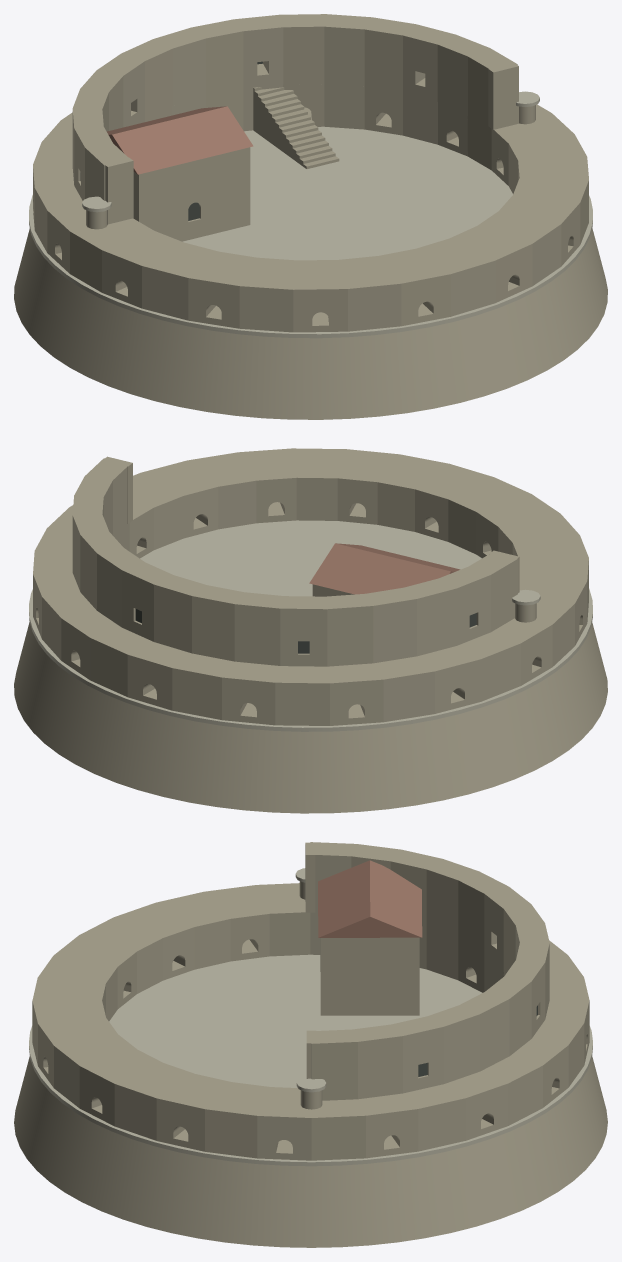
Rendered from tour-royale-toulon-near.glb.
The picture shows the model from 3 angles, top to bottom: view 1: azimuth 30°, elevation 25°; view 2: azimuth 150°, elevation 25°; view 3: azimuth 270°, elevation 25°; orthographic projection.
Visible parts, largest first — view 1: tour-royale-toulon-0-stone, tour-royale-toulon-0-trim, tour-royale-toulon-0-roof; view 2: tour-royale-toulon-0-stone, tour-royale-toulon-0-trim, tour-royale-toulon-0-roof; view 3: tour-royale-toulon-0-stone, tour-royale-toulon-0-trim, tour-royale-toulon-0-roof.
Boxes of the visible parts, x1,y1,x2,y2 form: tour-royale-toulon-0-stone: (14,14,607,419); tour-royale-toulon-0-trim: (29,91,592,338); tour-royale-toulon-0-roof: (107,106,253,174); tour-royale-toulon-0-stone: (14,448,607,813); tour-royale-toulon-0-trim: (29,520,592,731); tour-royale-toulon-0-roof: (309,543,460,594); tour-royale-toulon-0-stone: (14,842,607,1247); tour-royale-toulon-0-trim: (29,868,592,1166); tour-royale-toulon-0-roof: (318,860,422,937).
Bounding box in the file's own units: 60 × 20 × 60.
